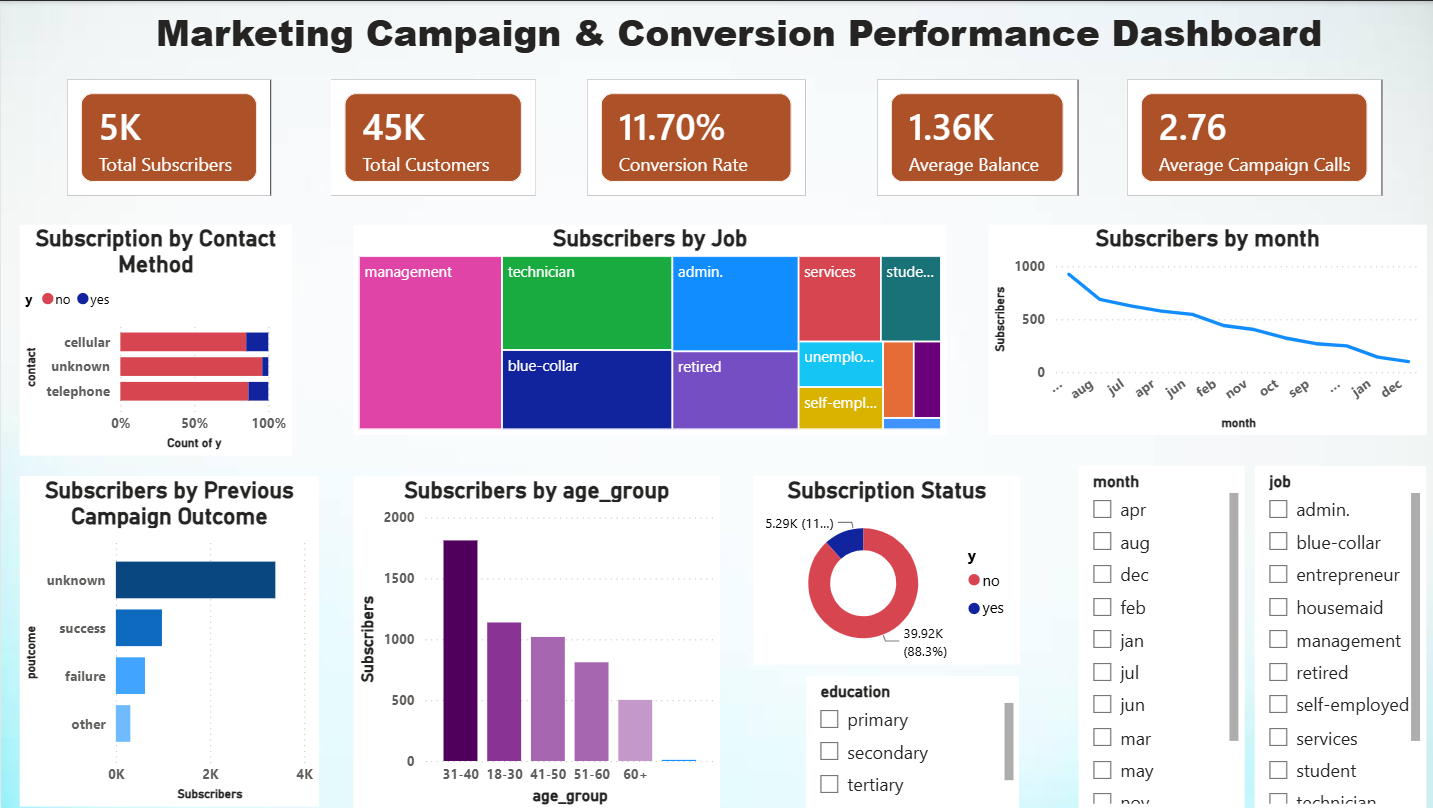

The page's visual inventory and layout, read from the dashboard file:
{"tool":"powerbi","page":{"name":"Page 1","canvas":[1280,720],"ordinal":0},"visuals":[{"type":"cardVisual","fields":{"Data":["bank_marketing_cleaned.Total Subscribers"]},"box":[58.8,69.6,181.3,103.3],"z":0},{"type":"cardVisual","fields":{"Data":["bank_marketing_cleaned.Total Customers"]},"box":[294.2,69.6,182.5,103.3],"z":1000},{"type":"cardVisual","fields":{"Data":["bank_marketing_cleaned.Conversion Rate"]},"box":[522.3,69.6,194.5,103.3],"z":2000},{"type":"cardVisual","fields":{"Data":["bank_marketing_cleaned.Average Balance"]},"box":[780.5,69.6,178.9,103.3],"z":3000},{"type":"cardVisual","fields":{"Data":["bank_marketing_cleaned.Average Campaign Calls"]},"box":[1002.6,69.6,226.9,103.3],"z":4000},{"type":"donutChart","title":"Subscription Status","fields":{"Category":["bank_marketing_cleaned.y"],"Y":["CountNonNull(bank_marketing_cleaned.y)"]},"box":[670,422.7,237.7,168.1],"z":5000},{"type":"treemap","title":"Subscribers by Job","fields":{"Group":["bank_marketing_cleaned.job"],"Values":["bank_marketing_cleaned.Subscribers"]},"box":[313.4,199.3,528.3,187.3],"z":5001},{"type":"lineChart","fields":{"Y":["bank_marketing_cleaned.Subscribers"],"Category":["bank_marketing_cleaned.month"]},"box":[878.9,199.3,390.2,187.3],"z":5002},{"type":"hundredPercentStackedBarChart","title":"Subscription by Contact Method","fields":{"Category":["bank_marketing_cleaned.contact"],"Series":["bank_marketing_cleaned.y"],"Y":["CountNonNull(bank_marketing_cleaned.y)"]},"box":[16.8,199.3,242.6,205.3],"z":5003},{"type":"clusteredColumnChart","fields":{"Category":["bank_marketing_cleaned.age_group"],"Y":["bank_marketing_cleaned.Subscribers"]},"box":[313.9,418.6,326.2,297.2],"z":5004},{"type":"clusteredBarChart","title":"Subscribers by Previous Campaign Outcome","fields":{"Category":["bank_marketing_cleaned.poutcome"],"Y":["bank_marketing_cleaned.Subscribers"]},"box":[16.8,422.7,266.6,294.2],"z":5005},{"type":"slicer","fields":{"Values":["bank_marketing_cleaned.month"]},"box":[959.4,414.3,147.7,306.2],"z":5006},{"type":"slicer","fields":{"Values":["bank_marketing_cleaned.job"]},"box":[1116.7,414.3,152.5,306.2],"z":5007},{"type":"slicer","fields":{"Values":["bank_marketing_cleaned.education"]},"box":[716.8,601.6,189.7,118.9],"z":5008},{"type":"textbox","box":[99.7,0,1114.3,69.6],"z":5009}]}

Visuals, with their boxes in screenshot pixels (x1, y1, x2, y2), scaled from the page's 1280x720 canvas onto the 1433x808 screenshot:
cardVisual - bank_marketing_cleaned.Total Subscribers: 66 78 269 194
cardVisual - bank_marketing_cleaned.Total Customers: 329 78 534 194
cardVisual - bank_marketing_cleaned.Conversion Rate: 585 78 802 194
cardVisual - bank_marketing_cleaned.Average Balance: 874 78 1074 194
cardVisual - bank_marketing_cleaned.Average Campaign Calls: 1122 78 1376 194
"Subscription Status" donutChart: 750 474 1016 663
"Subscribers by Job" treemap: 351 224 942 434
lineChart - bank_marketing_cleaned.Subscribers x bank_marketing_cleaned.month: 984 224 1421 434
"Subscription by Contact Method" hundredPercentStackedBarChart: 19 224 290 454
clusteredColumnChart - bank_marketing_cleaned.age_group x bank_marketing_cleaned.Subscribers: 351 470 717 803
"Subscribers by Previous Campaign Outcome" clusteredBarChart: 19 474 317 805
slicer - bank_marketing_cleaned.month: 1074 465 1239 807
slicer - bank_marketing_cleaned.job: 1250 465 1421 807
slicer - bank_marketing_cleaned.education: 802 675 1015 807
textbox: 112 0 1359 78
